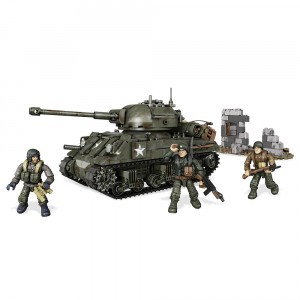Battle Tank: (52, 99, 220, 198)
